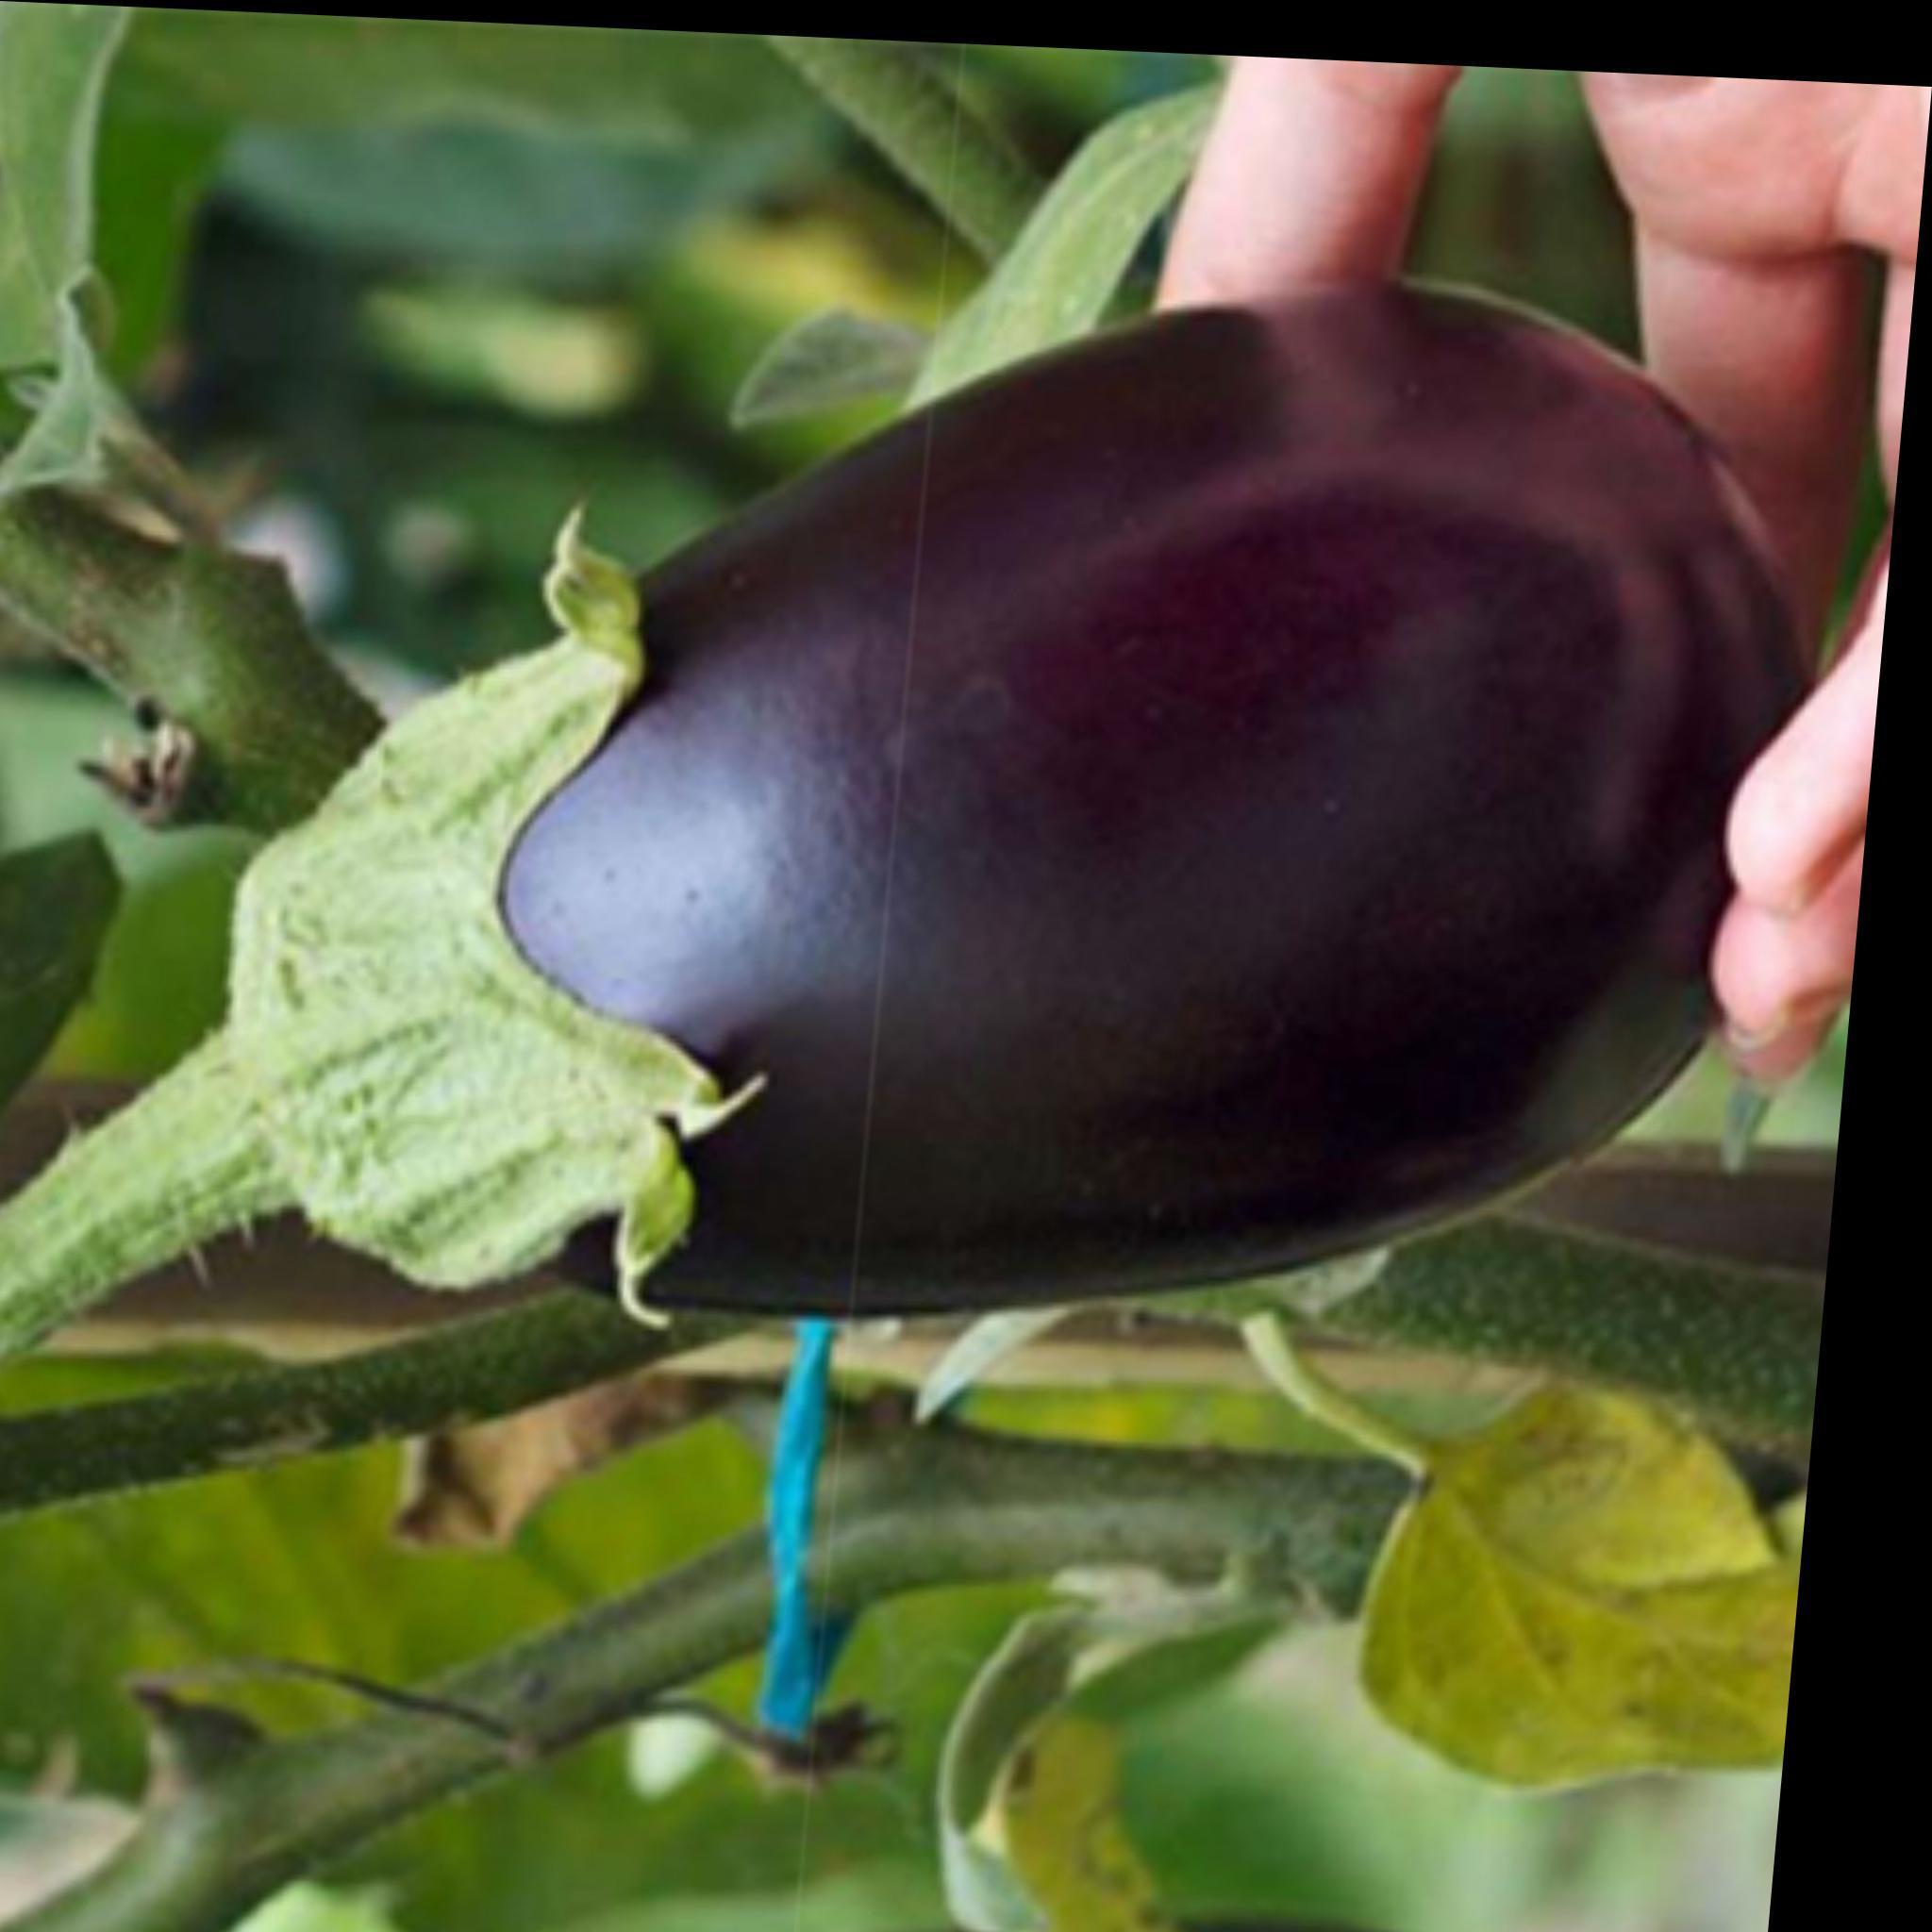eggplant: (0, 189, 1852, 1606)
